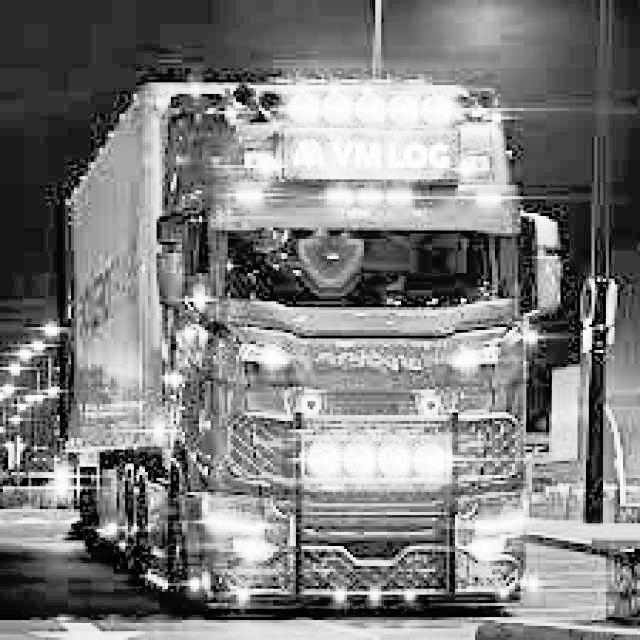Truck: (57, 71, 564, 617)
